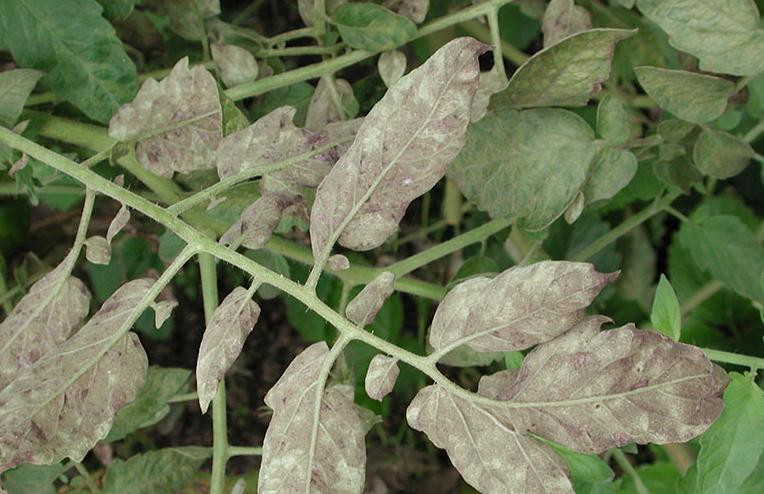Tomato mold leaf: (449, 115, 623, 234), (0, 0, 136, 114), (632, 61, 759, 149), (628, 0, 764, 77)
